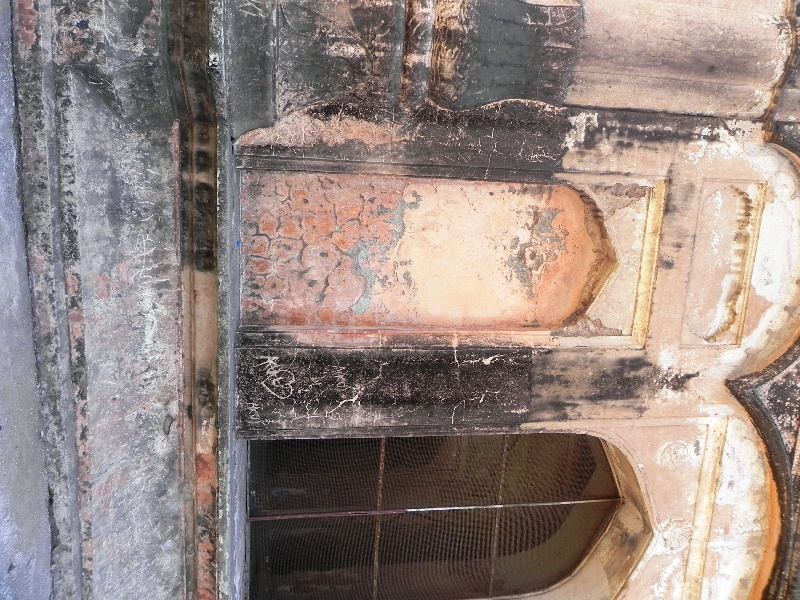Spalling: (506, 238, 539, 284)
